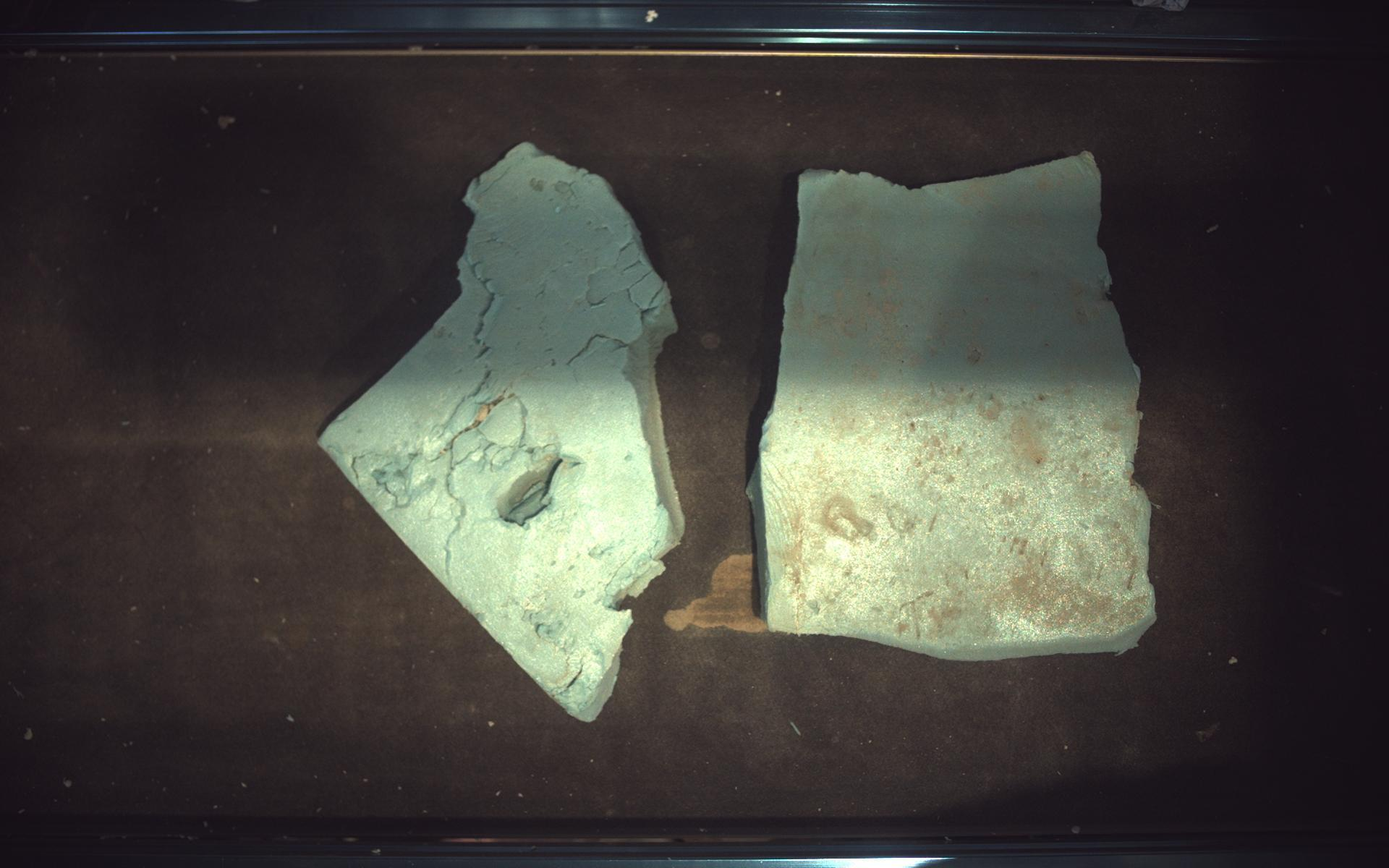foam: (318, 142, 684, 723), (751, 152, 1158, 661)
